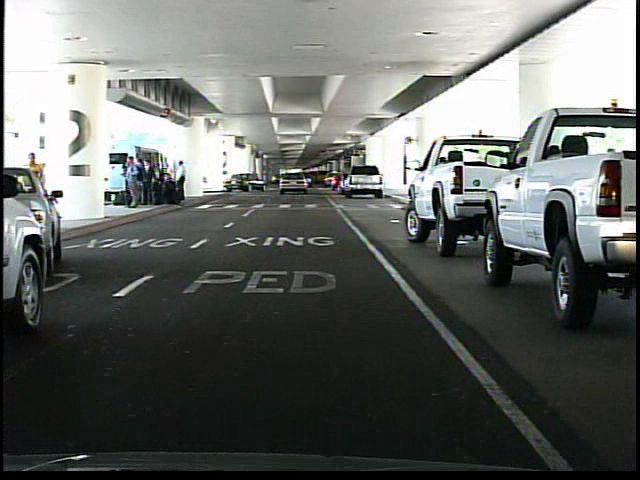person: (5, 148, 49, 237)
